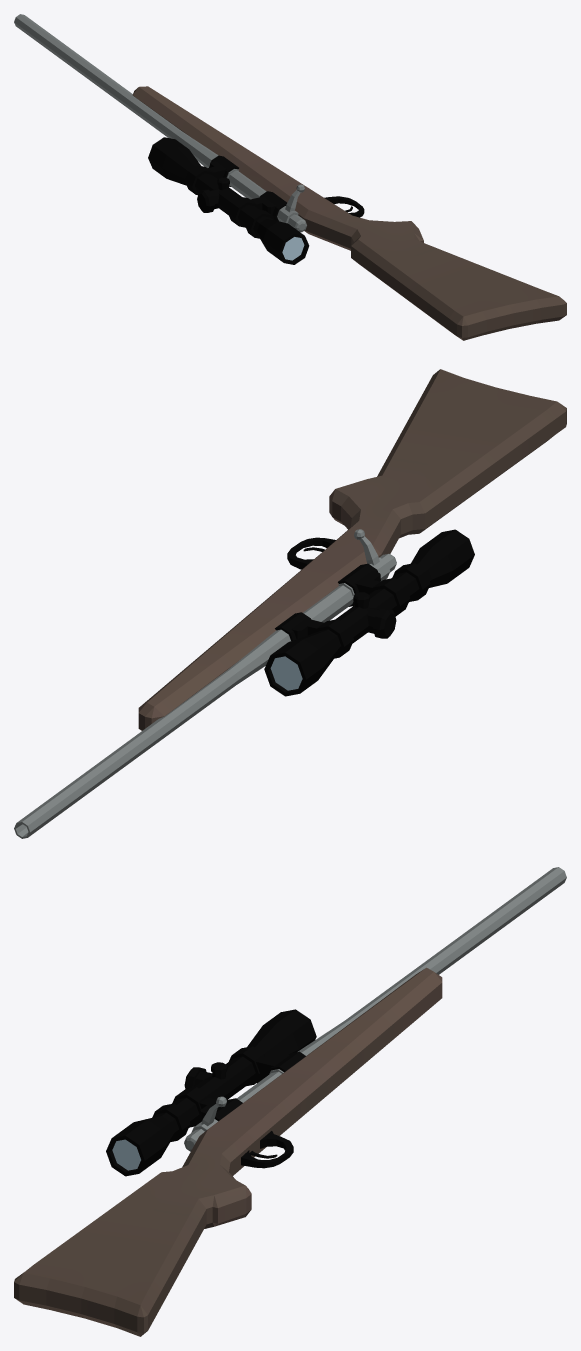
File: scene_ZUvToWcqKu.glb
3 renders of one model, top to bottom at view 1: azimuth 30°, elevation 25°; view 2: azimuth 150°, elevation 25°; view 3: azimuth 330°, elevation 25°, orthographic. The views are drawn at different scales.
Visible parts, largest first — view 1: Sniper; view 2: Sniper; view 3: Sniper.
Part boxes in pixels (x1=…): Sniper: x1=14, y1=14, x2=566, y2=340; Sniper: x1=14, y1=369, x2=566, y2=838; Sniper: x1=14, y1=867, x2=566, y2=1336.
Size of the model in its own units: 0.4872 by 0.1337 by 2.21.
Materials: 1 (1 with a texture image).
